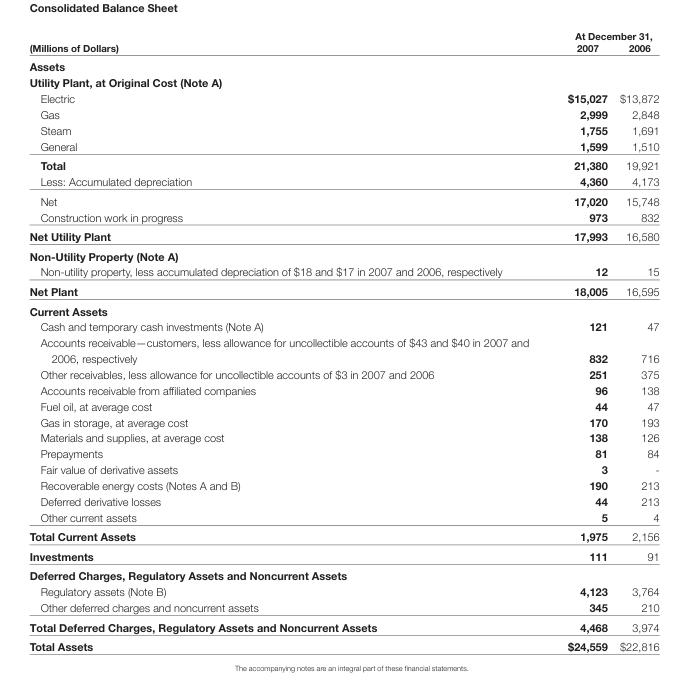table: (28, 29, 658, 652)
table column: (28, 29, 547, 652), (547, 29, 612, 652), (612, 29, 658, 652)
table column header: (28, 29, 658, 56)
table projected row header: (28, 56, 658, 74), (28, 245, 658, 263), (28, 300, 658, 318), (28, 565, 658, 583), (28, 74, 658, 89)
table row: (28, 334, 658, 365), (28, 545, 658, 565), (28, 616, 658, 636), (28, 226, 658, 245), (28, 281, 658, 300), (28, 526, 658, 545), (28, 56, 658, 74), (28, 137, 658, 155), (28, 172, 658, 190), (28, 190, 658, 208), (28, 208, 658, 226), (28, 245, 658, 263), (28, 263, 658, 281), (28, 300, 658, 318), (28, 508, 658, 526), (28, 565, 658, 583), (28, 155, 658, 172), (28, 599, 658, 616), (28, 89, 658, 105), (28, 105, 658, 121), (28, 121, 658, 137), (28, 318, 658, 334), (28, 365, 658, 381), (28, 381, 658, 397), (28, 397, 658, 413), (28, 413, 658, 429), (28, 429, 658, 445), (28, 445, 658, 461), (28, 476, 658, 492), (28, 492, 658, 508), (28, 583, 658, 599), (28, 636, 658, 652), (28, 41, 658, 56), (28, 74, 658, 89), (28, 461, 658, 476), (28, 29, 658, 41)
table spanning cell: (28, 29, 547, 56), (547, 29, 658, 41)
